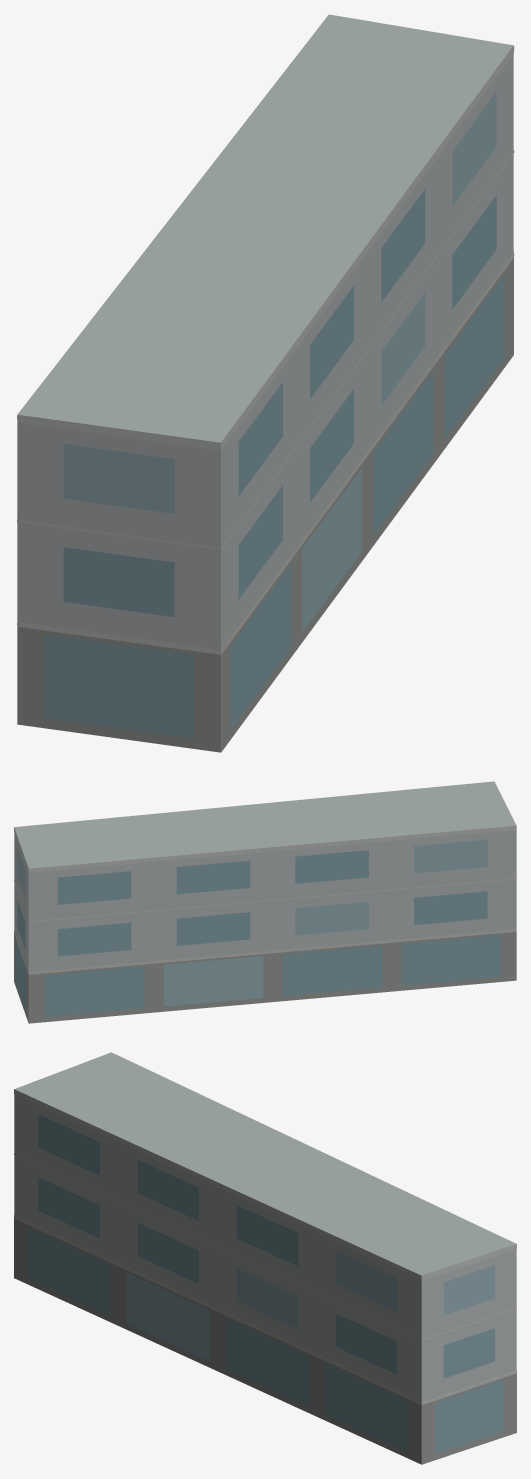
The model's file is survey-upis-32895406.glb.
3 views of the same model, one above another, from view 1: azimuth 30°, elevation 25°; view 2: azimuth 150°, elevation 25°; view 3: azimuth 270°, elevation 25° (orthographic). The views are drawn at different scales.
Parts seen in each view (by area): view 1: survey-upis-32895406.tmp; view 2: survey-upis-32895406.tmp; view 3: survey-upis-32895406.tmp.
Part boxes in pixels (box(x1,y1,x2,y2)): survey-upis-32895406.tmp: box(17, 14, 514, 752); survey-upis-32895406.tmp: box(14, 781, 516, 1023); survey-upis-32895406.tmp: box(14, 1052, 516, 1464).
Bounding box in the file's own units: 23.22 × 9.15 × 22.07.
